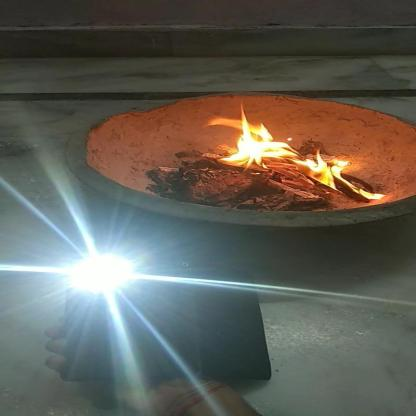fire: (201, 107, 297, 173), (294, 147, 358, 194)
